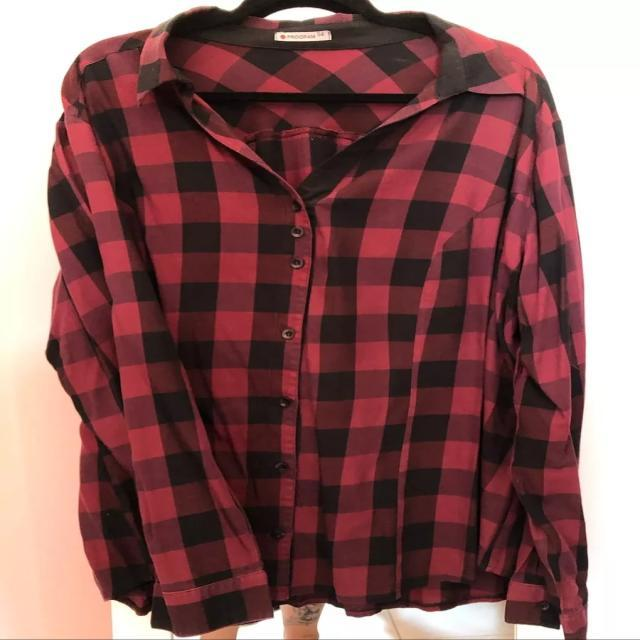long sleeve shirt: (43, 5, 588, 639)
